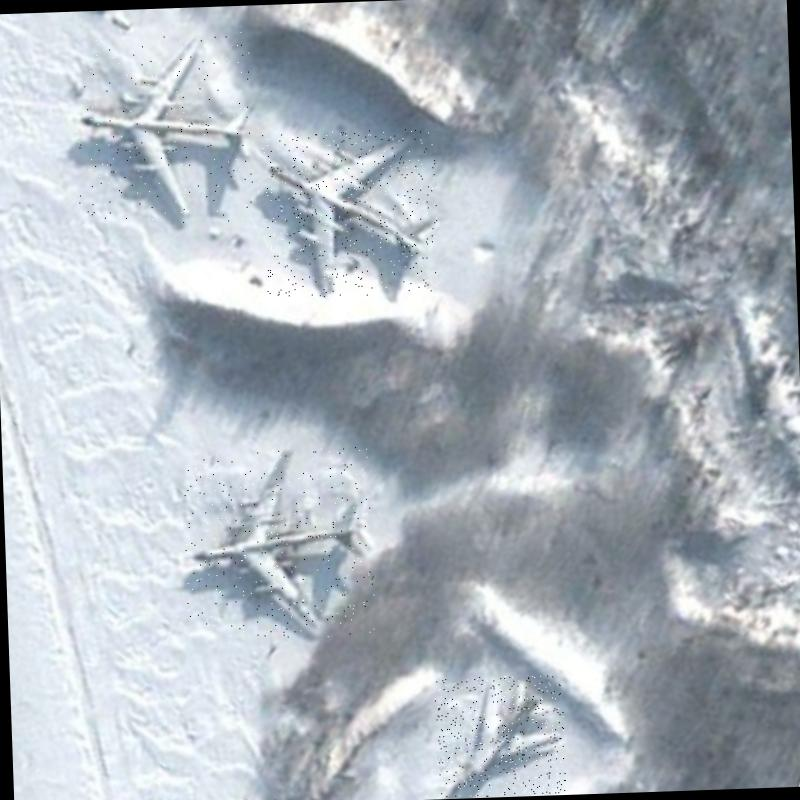A12: (434, 674, 566, 798)
A17: (182, 447, 375, 642), (73, 29, 260, 226), (262, 127, 439, 298)
